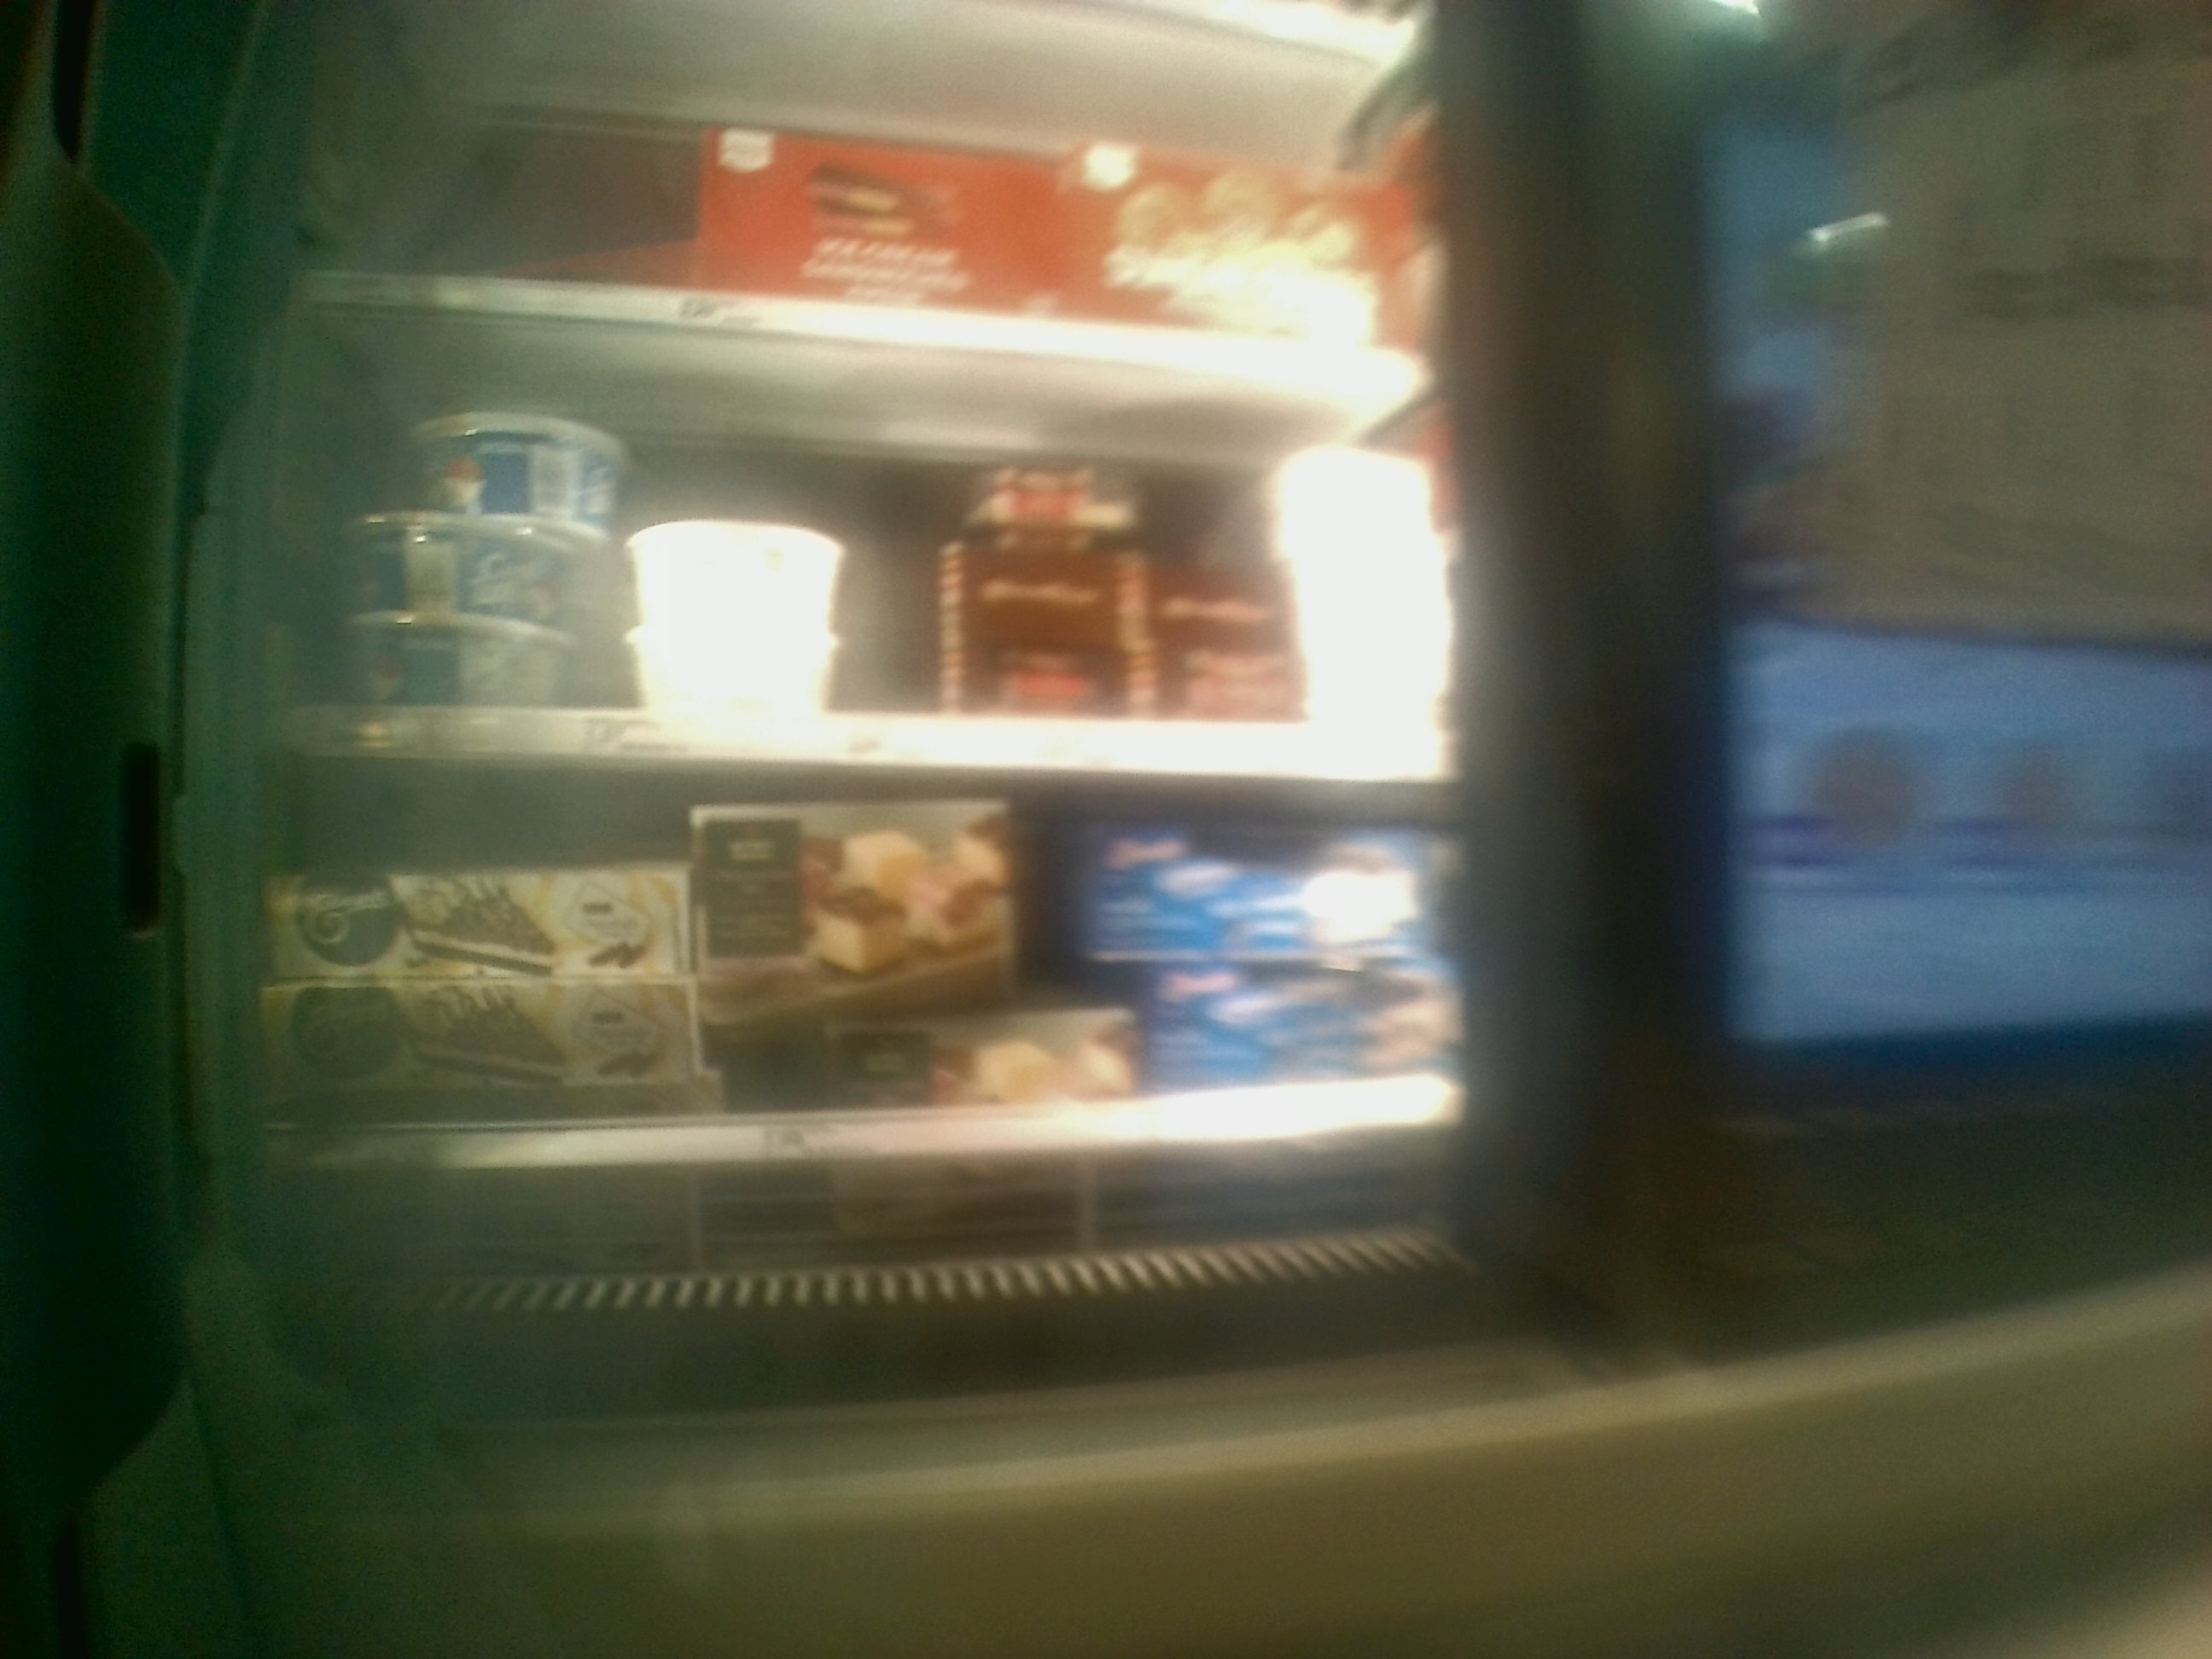shelf: (263, 355, 1458, 782)
